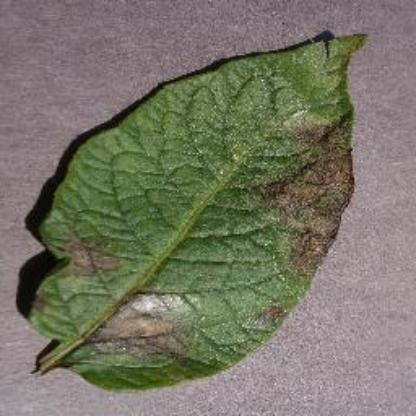Late-Blight: (23, 30, 381, 393)
